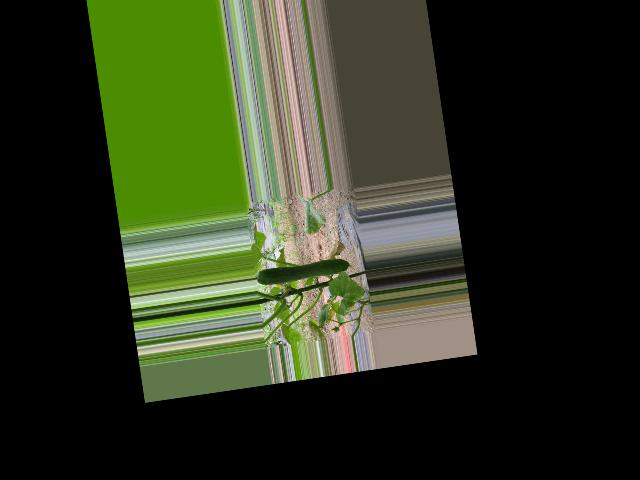cucumber: (256, 255, 353, 286)
